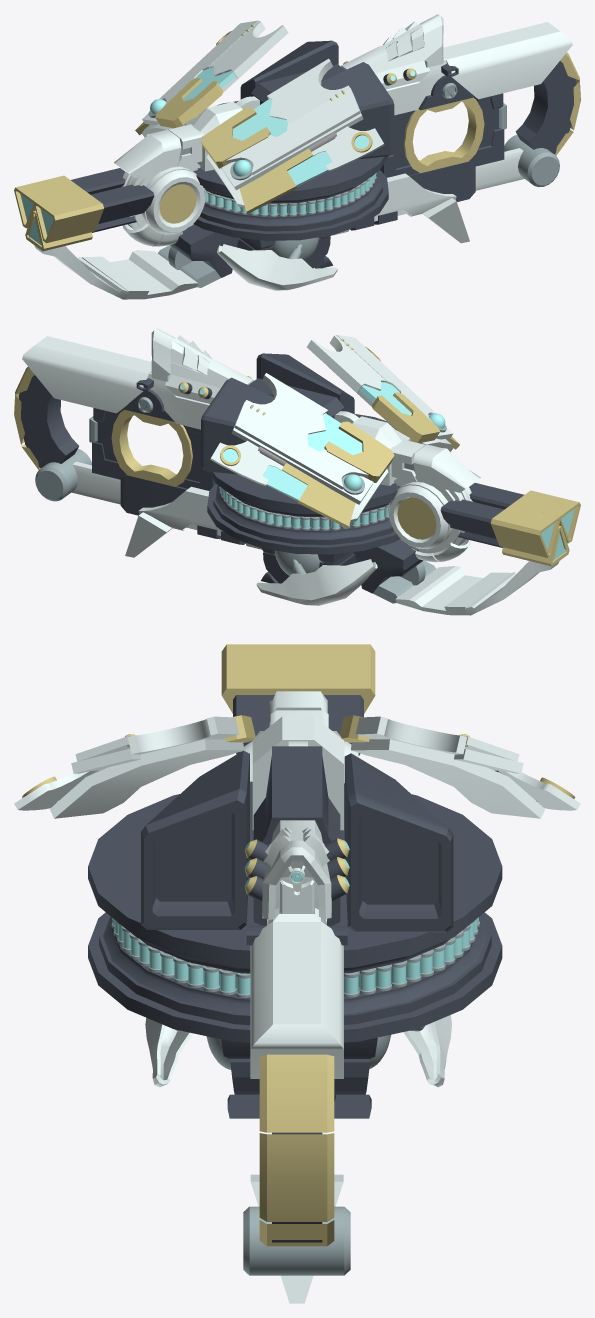
Rendered from Guns01.fbx.
3 views of the same model, one above another, from view 1: azimuth 30°, elevation 25°; view 2: azimuth 150°, elevation 25°; view 3: azimuth 270°, elevation 25° (orthographic). The views are drawn at different scales.
Parts seen in each view (by area): view 1: Geo1_Bodyset_Shoot01; view 2: Geo1_Bodyset_Shoot01; view 3: Geo1_Bodyset_Shoot01.
Part boxes in pixels (<box>): Geo1_Bodyset_Shoot01: <box>14,14,580,299</box>; Geo1_Bodyset_Shoot01: <box>14,328,580,615</box>; Geo1_Bodyset_Shoot01: <box>14,644,580,1303</box>.
Bounding box in the file's own units: 149 × 62.63 × 73.04.
